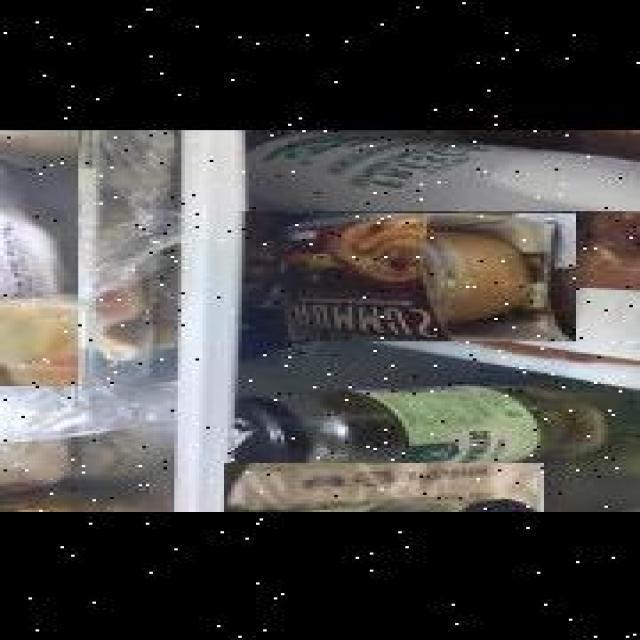bread: (224, 461, 544, 512)
cheese: (0, 128, 89, 233)
humus: (281, 211, 576, 339)
milk: (234, 128, 640, 209)
turkey: (0, 128, 100, 384)
